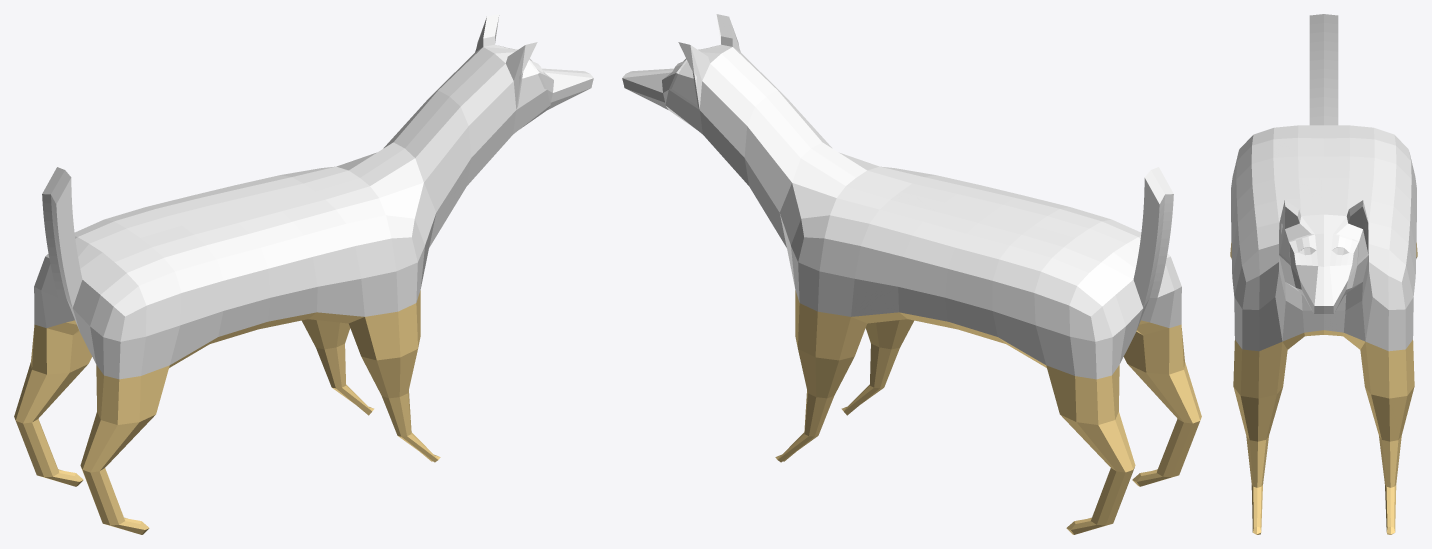
Rendered from Alson's dog blend.glb.
The picture shows the model from 3 angles, left to right: view 1: azimuth 30°, elevation 25°; view 2: azimuth 150°, elevation 25°; view 3: azimuth 270°, elevation 25°; orthographic projection.
Parts seen in each view (by area): view 1: Cube.002; view 2: Cube.002; view 3: Cube.002.
Boxes of the visible parts, x1,y1,x2,y2 form: Cube.002: (14,14,593,534); Cube.002: (622,14,1201,534); Cube.002: (1230,14,1417,534).
Bounding box in the file's own units: 12.05 × 8.15 × 3.57.
